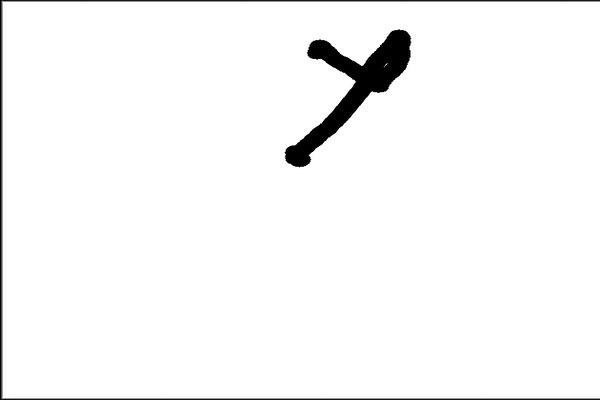Y: (277, 21, 416, 178)
